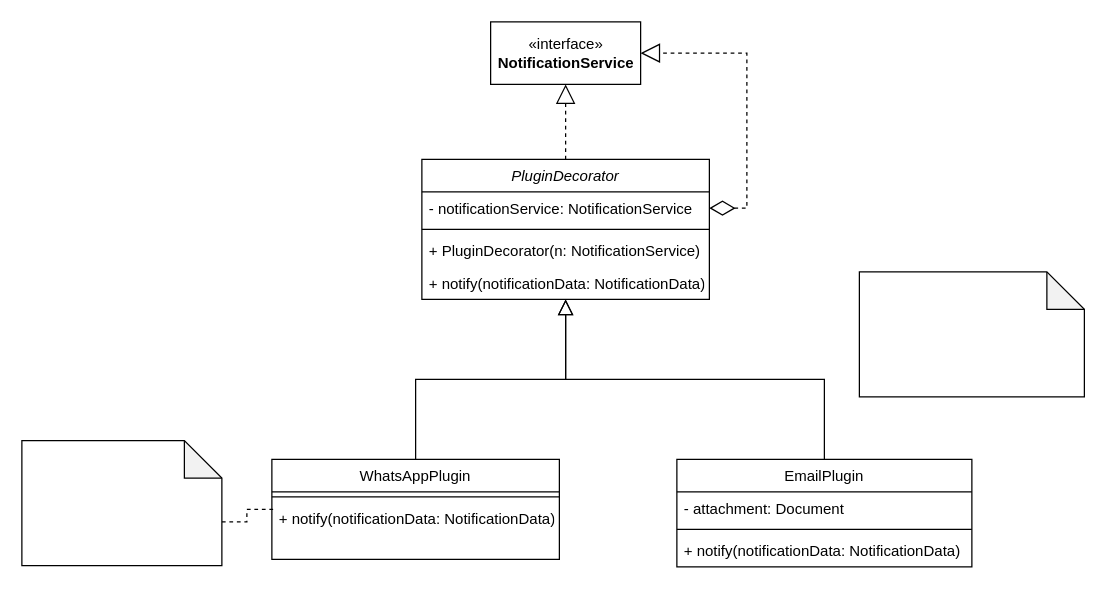
Image size: 1106x593. Some labels were removed from this diagram. Here are the shapes that lost their labels. From the top down, the centre of each, then its label:
At (x=971, y=334): "Plugins somente para ilustrar arquitetura".
At (x=121, y=502): "super .notify(notificationData)".
